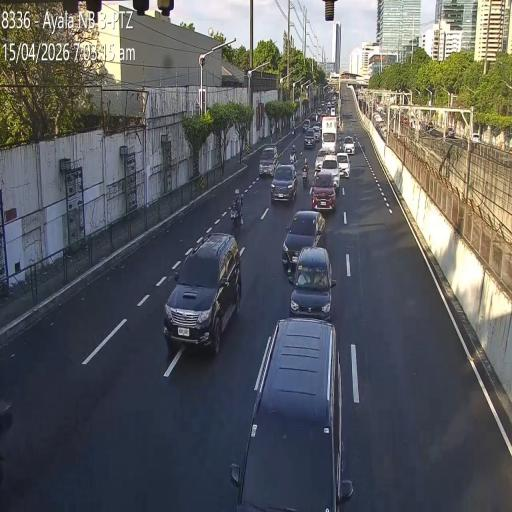Car: (232, 316, 349, 510), (164, 233, 241, 355), (289, 243, 335, 318), (282, 211, 325, 273), (270, 162, 298, 204), (311, 168, 337, 210), (320, 155, 340, 190), (258, 145, 278, 177), (314, 147, 334, 175), (336, 152, 350, 179), (303, 126, 317, 148), (342, 136, 356, 154), (312, 125, 321, 142), (302, 118, 312, 132)
Motor: (230, 190, 244, 236), (289, 146, 298, 172), (302, 159, 309, 186)
Not Accident: (164, 229, 242, 351), (280, 208, 336, 318), (264, 145, 298, 201), (318, 145, 343, 189), (314, 168, 336, 211), (230, 190, 244, 236)
